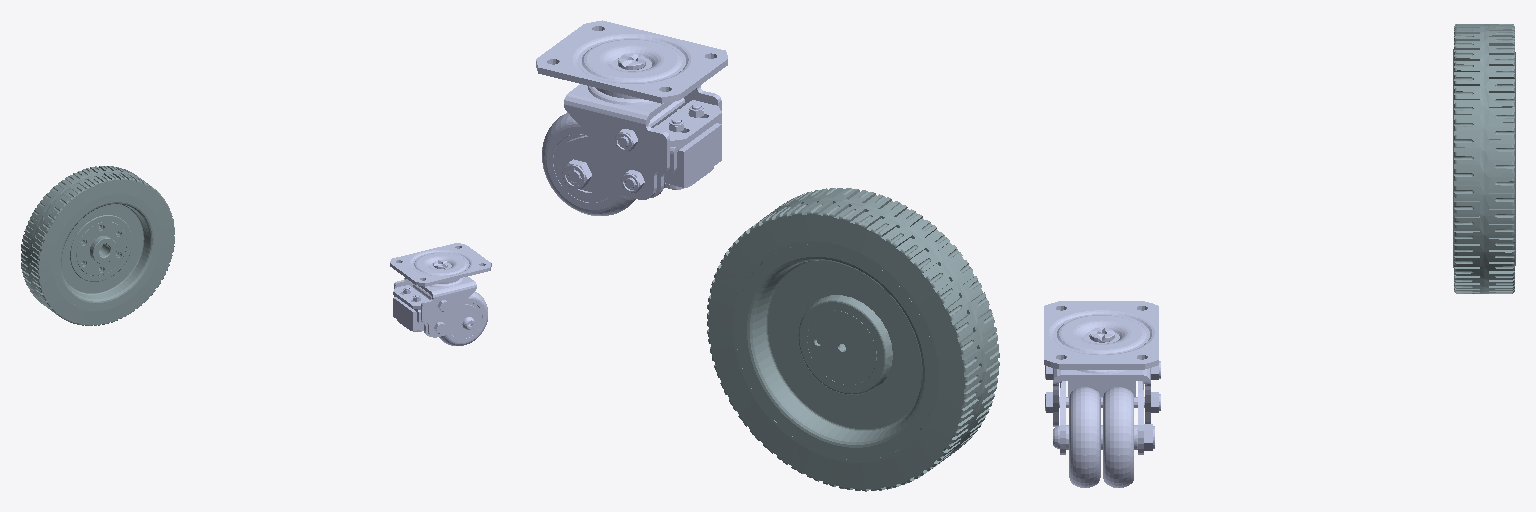
URDF robot description (ros_f):
<?xml version="1.0" encoding="utf-8"?>
<!-- This URDF was automatically created by SolidWorks to URDF Exporter! Originally created by Stephen Brawner (brawner@gmail.com) 
     Commit Version: 1.6.0-4-g7f85cfe  Build Version: 1.6.7995.38578
     For more information, please see http://wiki.ros.org/sw_urdf_exporter -->
<robot
  name="ros_f">
  <link
    name="base_link">
    <inertial>
      <origin
        xyz="0.80547 0.29964 -0.47356"
        rpy="0 0 0" />
      <mass
        value="13.533" />
      <inertia
        ixx="0.22773"
        ixy="-0.0049825"
        ixz="5.9491E-05"
        iyy="0.3509"
        iyz="5.9312E-05"
        izz="0.14899" />
    </inertial>
    <visual>
      <origin
        xyz="0 0 0"
        rpy="0 0 0" />
      <geometry>
        <mesh
          filename="meshes/base_link.STL" />
      </geometry>
      <material
        name="">
        <color
          rgba="0.74902 0.74902 0.74902 1" />
      </material>
    </visual>
    <collision>
      <origin
        xyz="0 0 0"
        rpy="0 0 0" />
      <geometry>
        <mesh
          filename="meshes/base_link.STL" />
      </geometry>
    </collision>
  </link>
  <link
    name="Left_wheel">
    <inertial>
      <origin
        xyz="-0.00025563 0.014871 7.2657E-07"
        rpy="0 0 0" />
      <mass
        value="1.0716" />
      <inertia
        ixx="0.0032564"
        ixy="1.521E-09"
        ixz="-6.2778E-09"
        iyy="0.0062145"
        iyz="4.2157E-08"
        izz="0.0032565" />
    </inertial>
    <visual>
      <origin
        xyz="0 0 0"
        rpy="0 0 0" />
      <geometry>
        <mesh
          filename="meshes/Left_wheel.STL" />
      </geometry>
      <material
        name="">
        <color
          rgba="0.59608 0.66667 0.68627 1" />
      </material>
    </visual>
    <collision>
      <origin
        xyz="0 0 0"
        rpy="0 0 0" />
      <geometry>
        <mesh
          filename="meshes/Left_wheel.STL" />
      </geometry>
    </collision>
  </link>
  <joint
    name="Left_wheel_joint"
    type="continuous">
    <origin
      xyz="0.71544 0.76308 -0.015158"
      rpy="0 0 -3.1416" />
    <parent
      link="base_link" />
    <child
      link="Left_wheel" />
    <axis
      xyz="0 1 0" />
  </joint>
  <link
    name="Right_wheel">
    <inertial>
      <origin
        xyz="-0.00025564 -0.014871 7.261E-07"
        rpy="0 0 0" />
      <mass
        value="1.0716" />
      <inertia
        ixx="0.0032564"
        ixy="-1.5005E-09"
        ixz="-6.3105E-09"
        iyy="0.0062145"
        iyz="-4.2151E-08"
        izz="0.0032565" />
    </inertial>
    <visual>
      <origin
        xyz="0 0 0"
        rpy="0 0 0" />
      <geometry>
        <mesh
          filename="meshes/Right_wheel.STL" />
      </geometry>
      <material
        name="">
        <color
          rgba="0.59608 0.66667 0.68627 1" />
      </material>
    </visual>
    <collision>
      <origin
        xyz="0 0 0"
        rpy="0 0 0" />
      <geometry>
        <mesh
          filename="meshes/Right_wheel.STL" />
      </geometry>
    </collision>
  </link>
  <joint
    name="Right_wheel_joint"
    type="continuous">
    <origin
      xyz="0.71544 0.18036 -0.015158"
      rpy="0 0 3.1416" />
    <parent
      link="base_link" />
    <child
      link="Right_wheel" />
    <axis
      xyz="0 -1 0" />
  </joint>
  <link
    name="Caster">
    <inertial>
      <origin
        xyz="-0.00326890758980913 -0.000105769701198966 -0.0476560909473075"
        rpy="0 0 0" />
      <mass
        value="0.378365009719551" />
      <inertia
        ixx="0.000486902921012301"
        ixy="4.68634433031941E-08"
        ixz="-8.39976891943837E-05"
        iyy="0.000645365810716879"
        iyz="-4.71799768324587E-07"
        izz="0.000450276858110533" />
    </inertial>
    <visual>
      <origin
        xyz="0 0 0"
        rpy="0 0 0" />
      <geometry>
        <mesh
          filename="meshes/Caster.STL" />
      </geometry>
      <material
        name="">
        <color
          rgba="0.792156862745098 0.819607843137255 0.933333333333333 1" />
      </material>
    </visual>
    <collision>
      <origin
        xyz="0 0 0"
        rpy="0 0 0" />
      <geometry>
        <mesh
          filename="meshes/Caster.STL" />
      </geometry>
    </collision>
  </link>
  <joint
    name="Caster_joint"
    type="continuous">
    <origin
      xyz="1.0482 0.47172 -0.0081577"
      rpy="0 0 -3.1416" />
    <parent
      link="base_link" />
    <child
      link="Caster" />
    <axis
      xyz="0 0 0" />
  </joint>
</robot>

--- Facts derived from the render (not from the file) ---
Views: 3 orthographic renders of the robot side by side, from view 1: azimuth 30°, elevation 25°; view 2: azimuth 150°, elevation 25°; view 3: azimuth 270°, elevation 25°.
Robot: ros_f — 4 links, 3 joints (3 continuous); root link base_link; default pose: every joint at zero.
Links seen in each view (by area): view 1: Left_wheel, Caster; view 2: Left_wheel, Caster; view 3: Caster, Left_wheel.
Link boxes in pixels (left/top/right/bottom): Left_wheel: left=21, top=166, right=174, bottom=325; Caster: left=390, top=243, right=491, bottom=345; Left_wheel: left=707, top=188, right=999, bottom=491; Caster: left=536, top=20, right=727, bottom=215; Caster: left=1044, top=301, right=1160, bottom=487; Left_wheel: left=1453, top=24, right=1515, bottom=293.
Size in the robot's own frame: 0.4922 by 0.3489 by 0.2 metres.
2 mesh visuals loaded from 4 distinct referenced files (2 binary STL); not drawn: 2 (reference not matched to a file when rendering).
